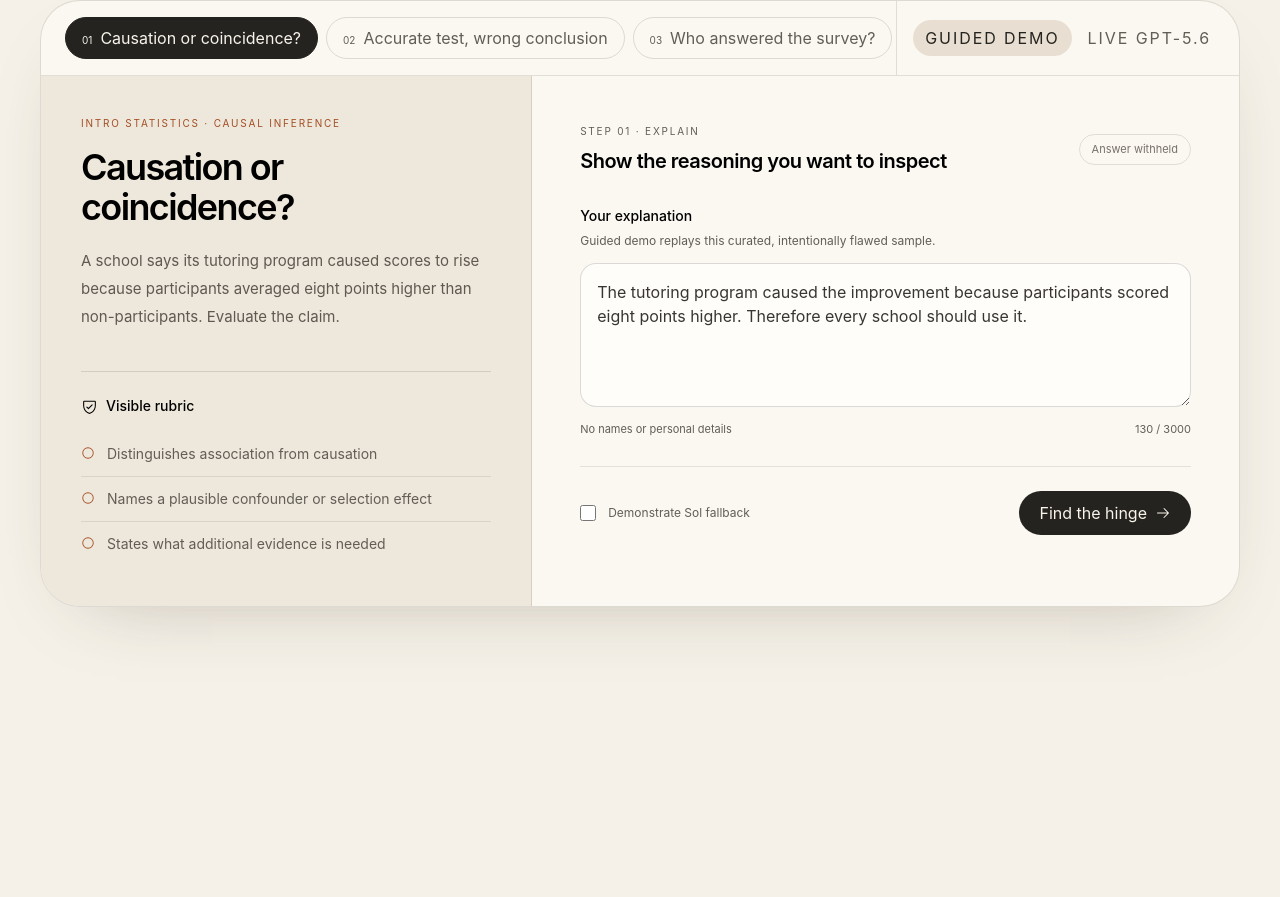
RepairStudio › invalidates downstream evidence when an upstream response changes
Click the button "Live GPT-5.6" at (1149, 38), box [1076,20,1223,56]
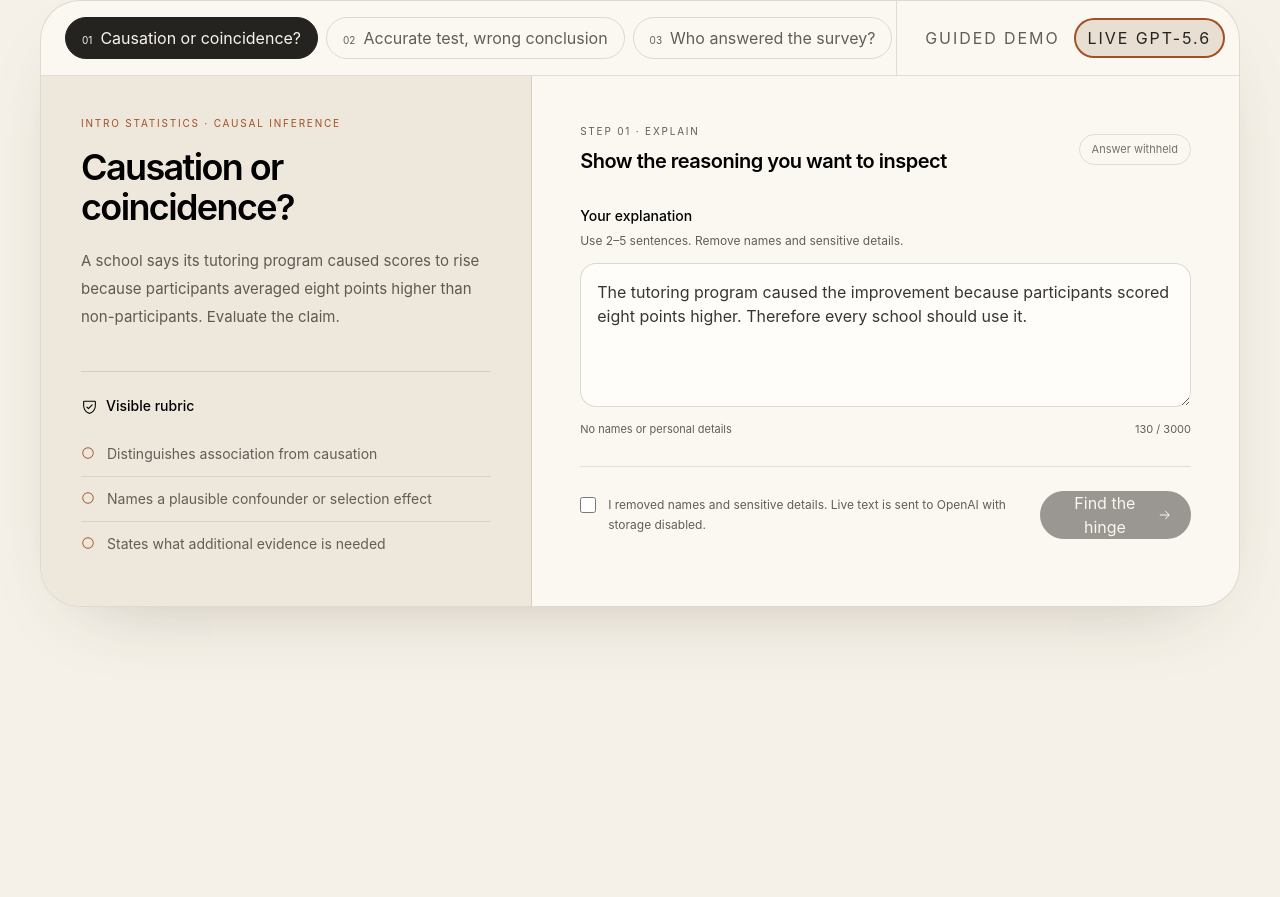
Click the checkbox labelled "I removed names and sensitive details" at (588, 504), box [580,496,596,512]
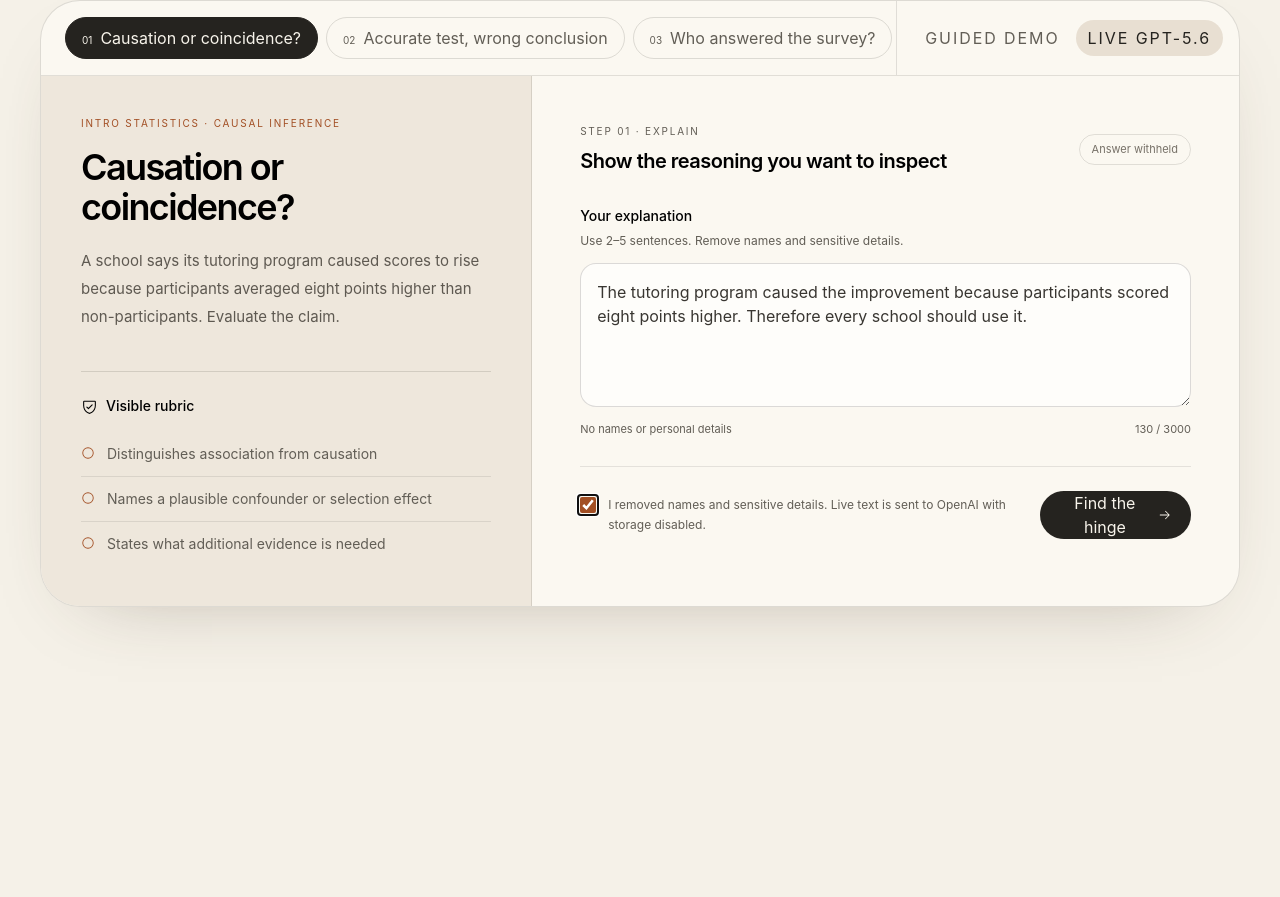
Click the button "Find the hinge" at (1116, 514), box [1040,490,1191,538]
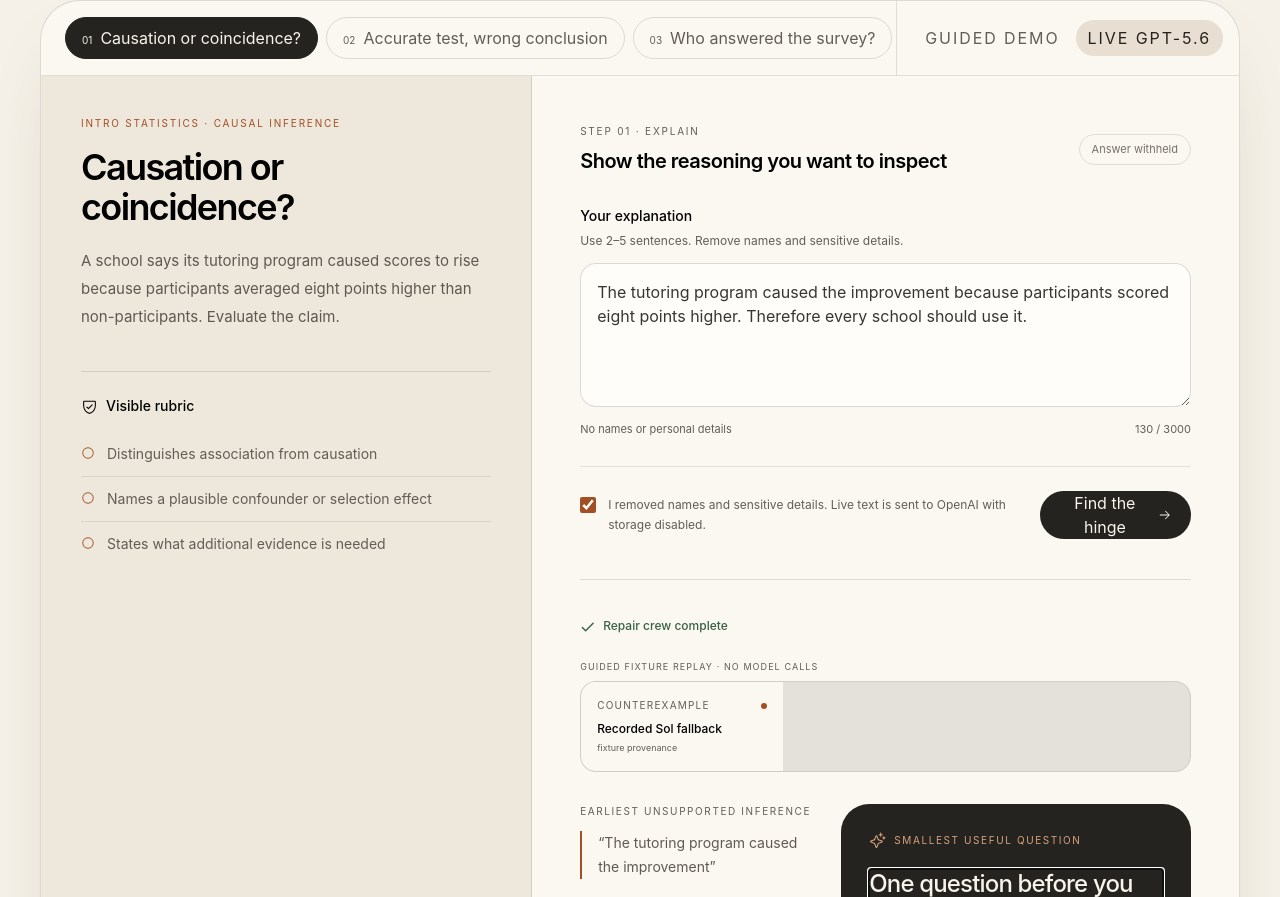
expect the message "Repair crew complete" is shown: met, box [580,618,728,634]
Type " More context." into the text box labelled "Your explanation" at (886, 335), box [580,263,1191,407]
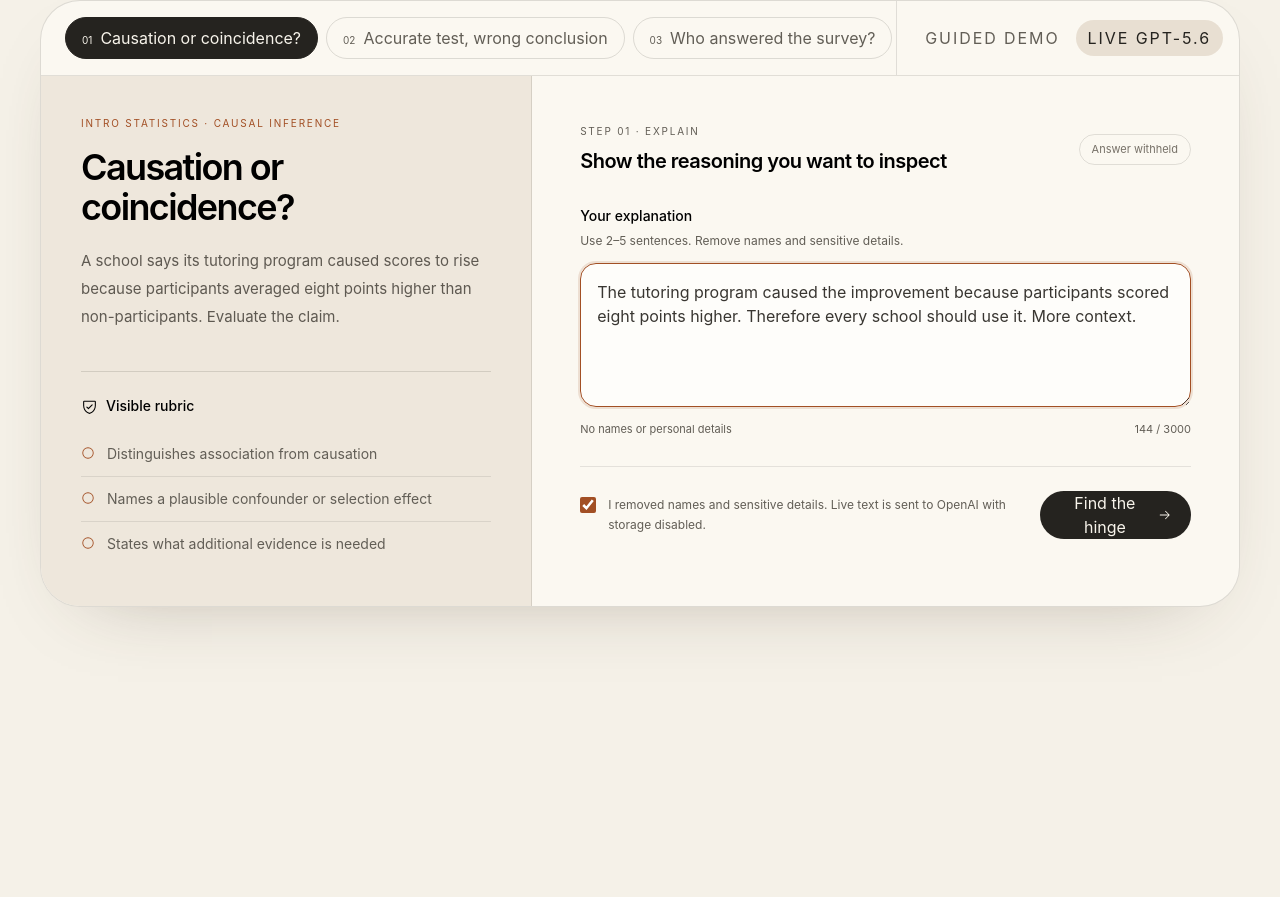
expect the message "Repair crew complete" is gone: met
